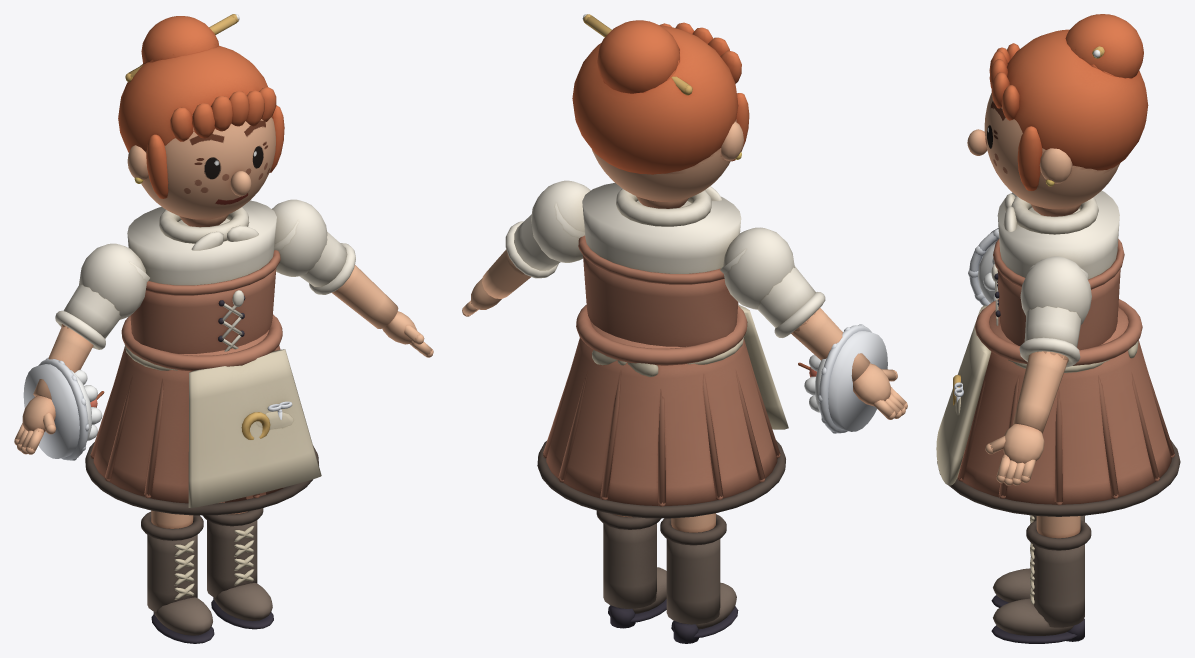
The model's file is clown_v2_static.glb.
3 renders of one model, left to right at view 1: azimuth 30°, elevation 25°; view 2: azimuth 150°, elevation 25°; view 3: azimuth 270°, elevation 25°, orthographic. The views are drawn at different scales.
Visible parts, largest first — view 1: body, head; view 2: body, head; view 3: body, head.
Boxes of the visible parts, x1,y1,x2,y2 form: body: [14, 14, 433, 643]; head: [141, 115, 275, 219]; body: [462, 14, 907, 643]; head: [592, 119, 736, 201]; body: [936, 14, 1180, 643]; head: [984, 93, 1120, 209].
Size of the model in its own units: 1.36 by 1.85 by 0.6761.
2 materials, 2 textured.
